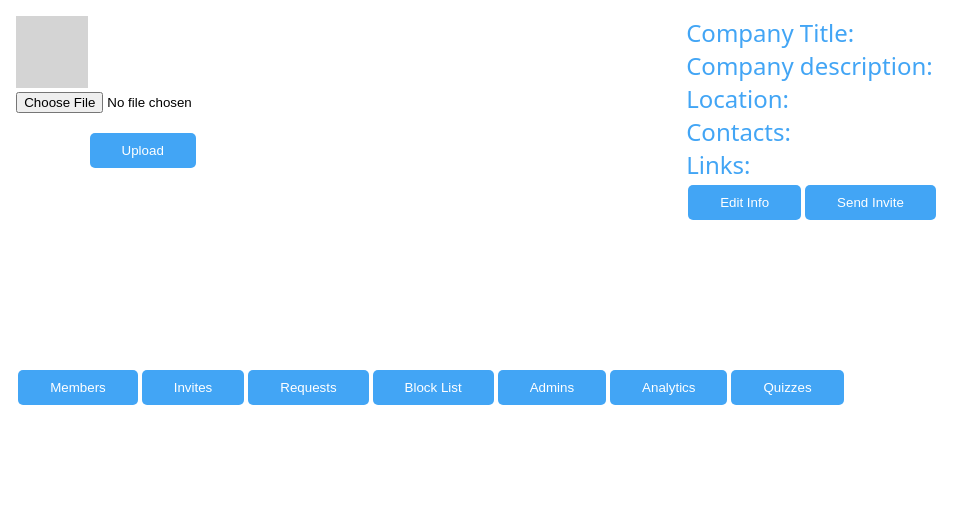
Test: CompanyContainer › renders CompanyProfileRequests when "Analytics" button is clicked
This screenshot has width=955, height=522.
Click the button "Analytics": (669, 388) [610,370,727,405]
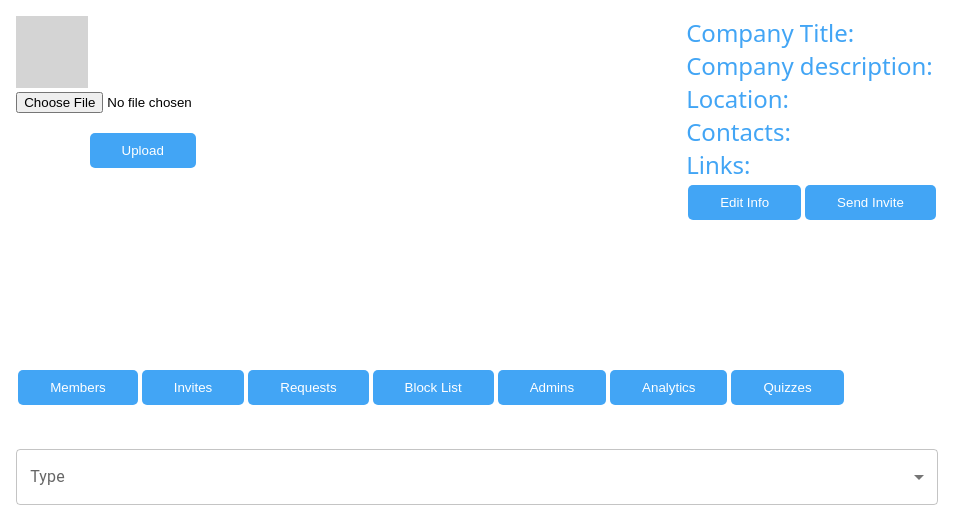
Check: the element with test id "company-profile-analytics" is shown, box [16,449,938,505]
